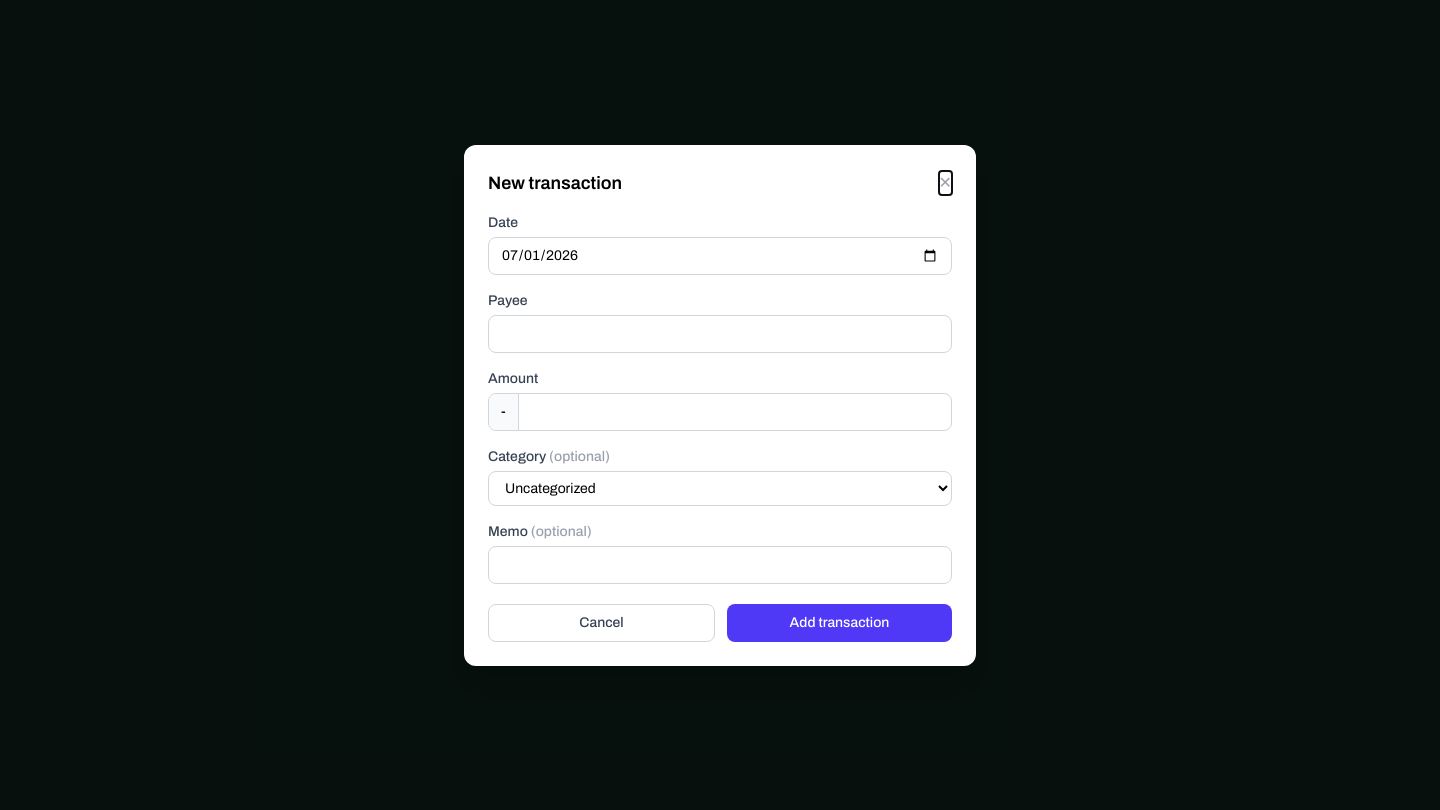
Test case: AddTransactionModal › shows validation error when amount is zero
Type "Some Payee" into the field labelled "Payee". click: coordinates (720, 334)
box: [488,314,952,352]
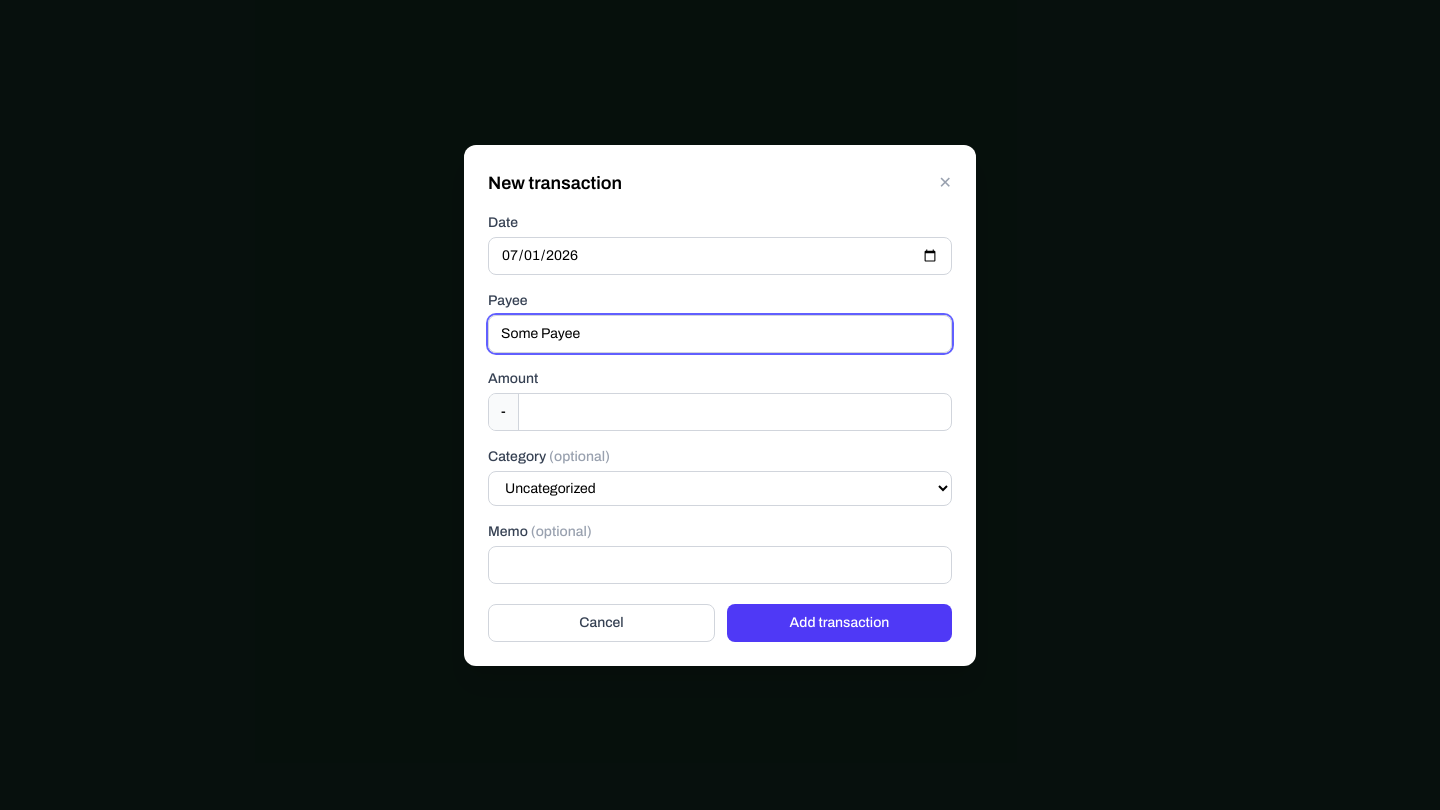
Type "0" into the field labelled "Amount". click: coordinates (735, 412)
box: [519,394,951,430]
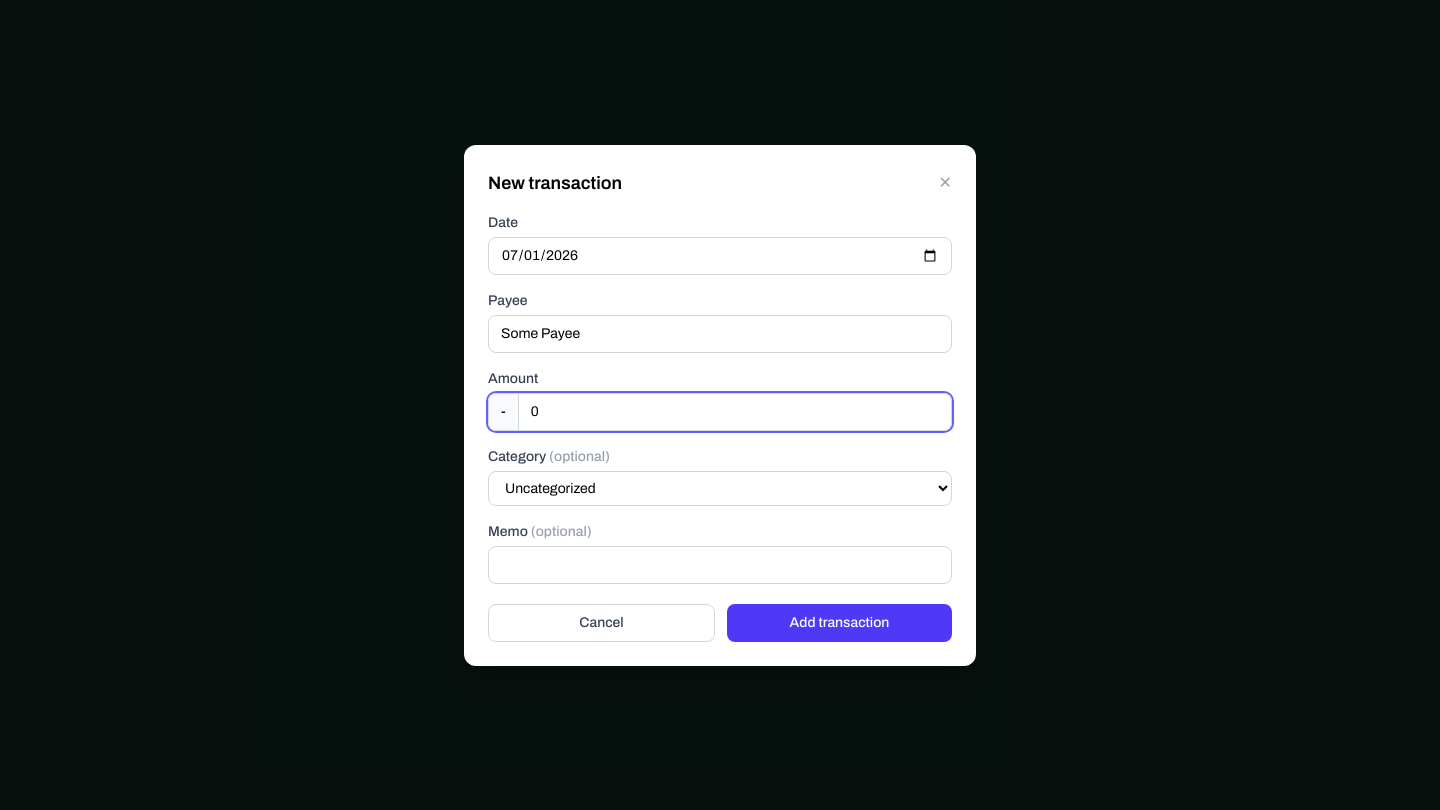
Click the button "Add transaction". click: coordinates (840, 622)
box: [727,604,952,642]
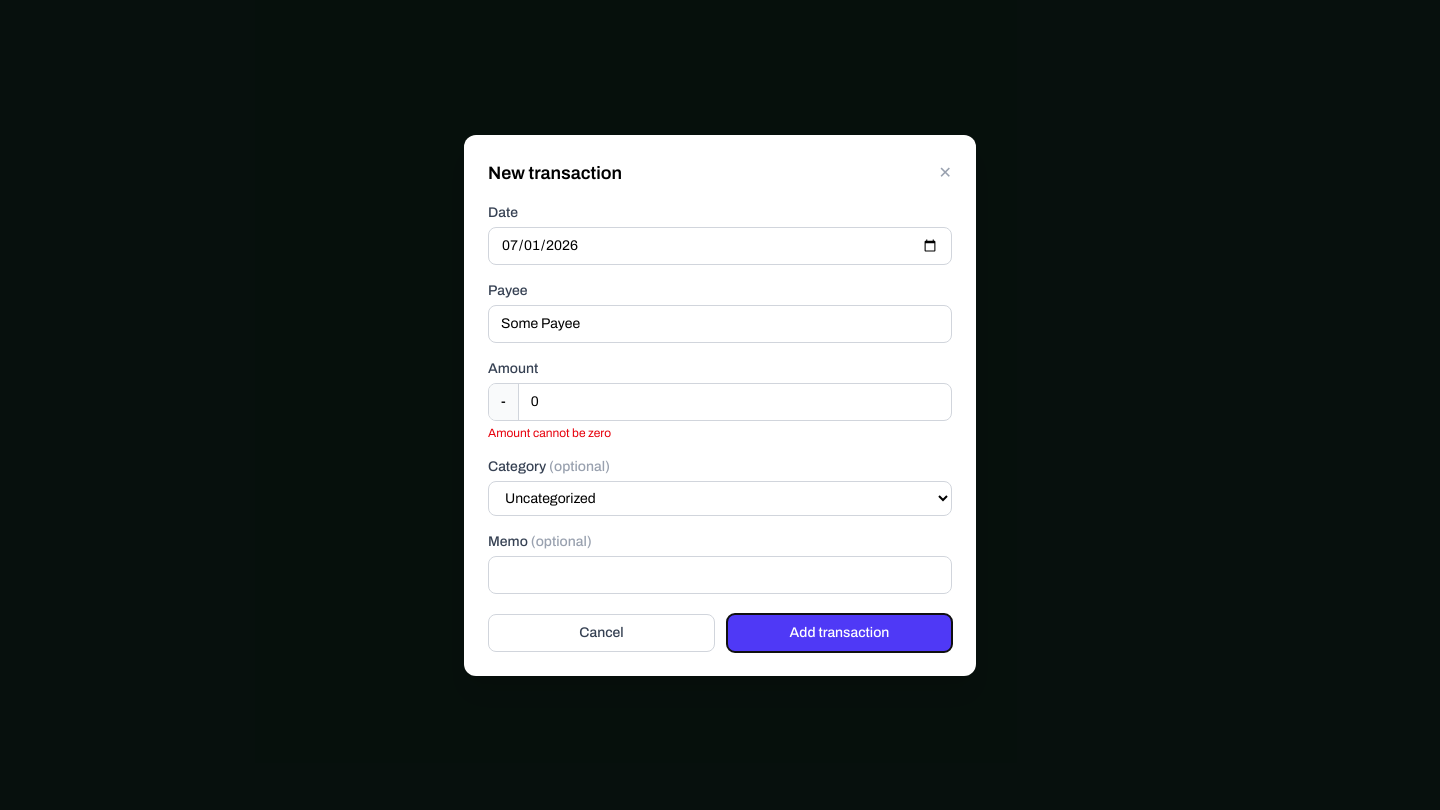
Now the text "Amount cannot be zero" is shown, box [488,426,611,440]
